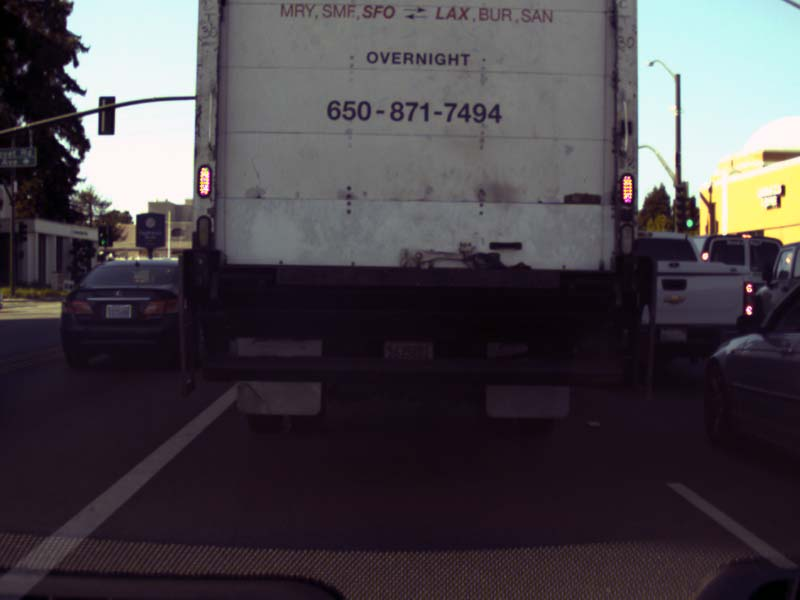Green: (684, 201, 695, 226), (97, 225, 106, 246)
